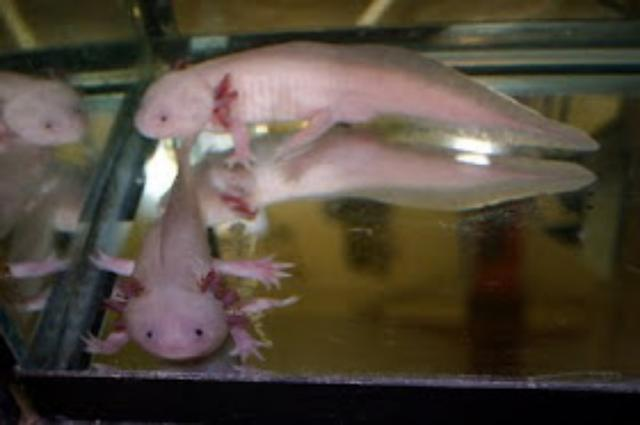Sirip Ekor: (454, 67, 606, 161)
